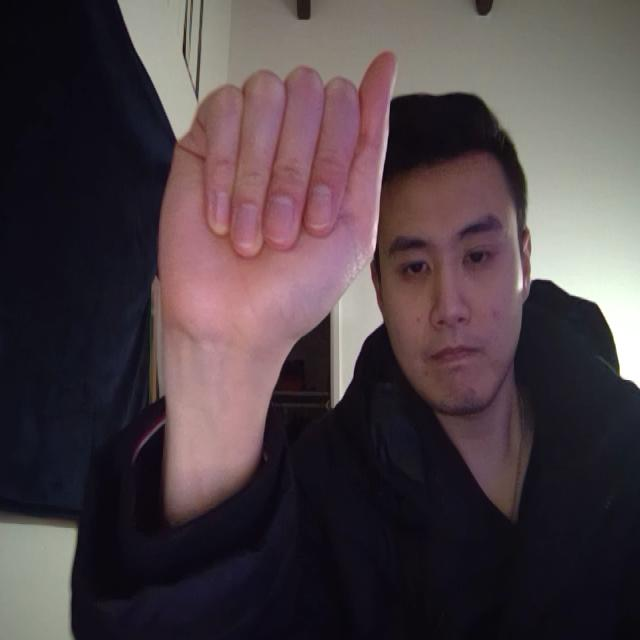A: (134, 25, 413, 442)
